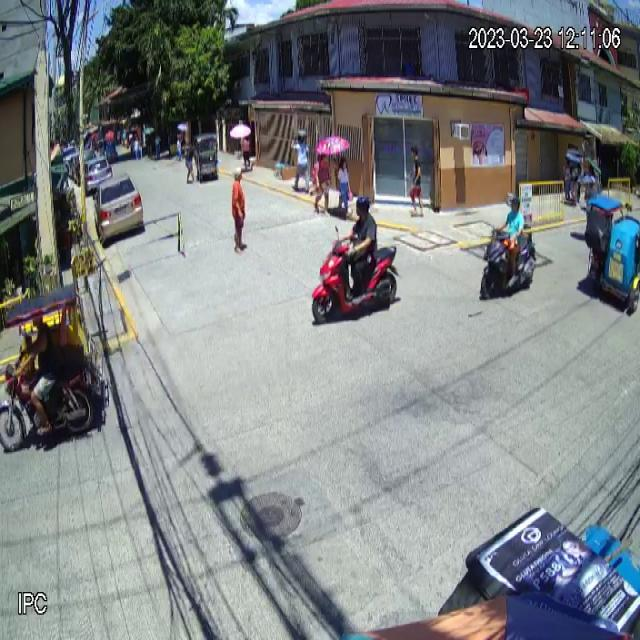Motorcycle: (308, 224, 401, 328), (476, 206, 542, 306)
Tricycle: (0, 284, 110, 452)
